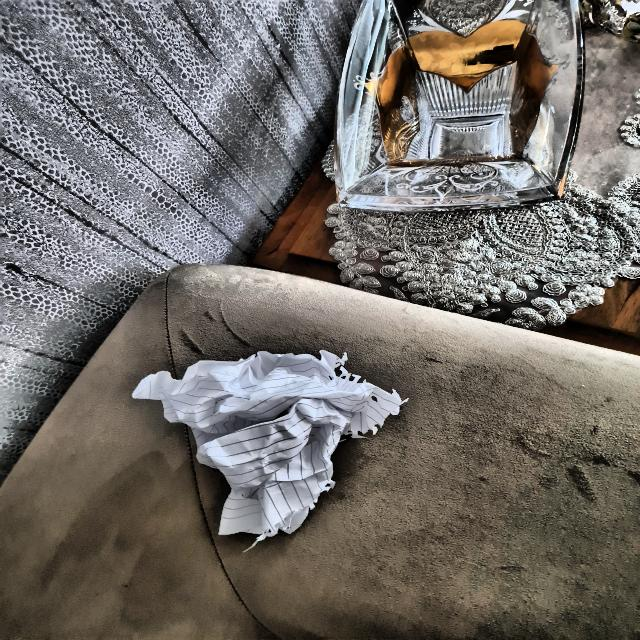Paper: (146, 343, 403, 540)
